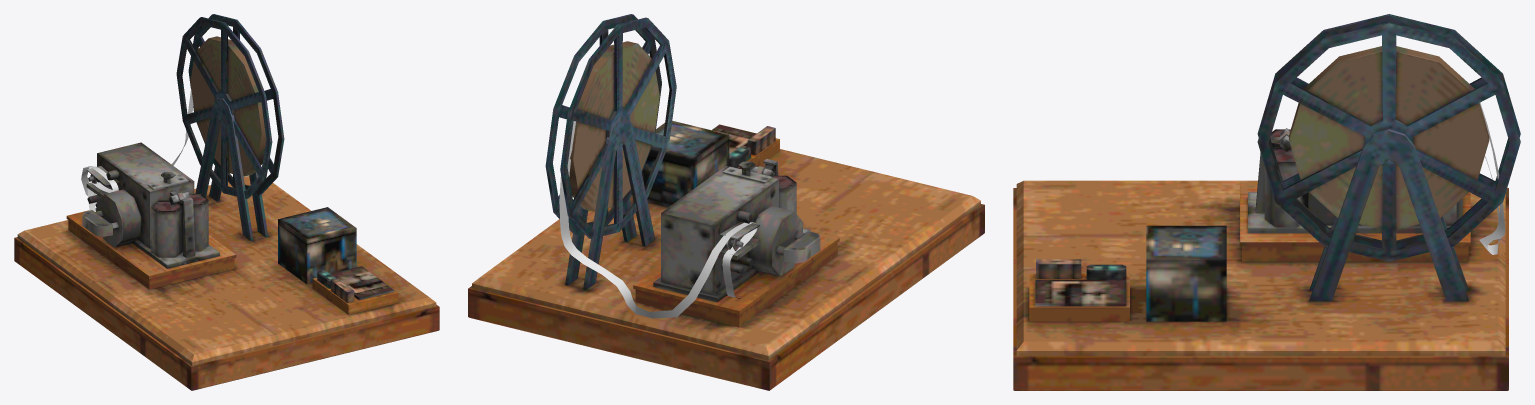
File: Telegraph.fbx
The picture shows the model from 3 angles, left to right: view 1: azimuth 30°, elevation 25°; view 2: azimuth 150°, elevation 25°; view 3: azimuth 270°, elevation 25°; orthographic projection. The views are drawn at different scales.
Visible parts, largest first — view 1: BézierCurve.014; view 2: BézierCurve.014; view 3: BézierCurve.014.
Boxes of the visible parts, bbox=[...] form: BézierCurve.014: bbox=[14, 14, 439, 390]; BézierCurve.014: bbox=[468, 14, 984, 390]; BézierCurve.014: bbox=[1013, 14, 1520, 390].
Bounding box in the file's own units: 0.371 × 0.3281 × 0.4691.
